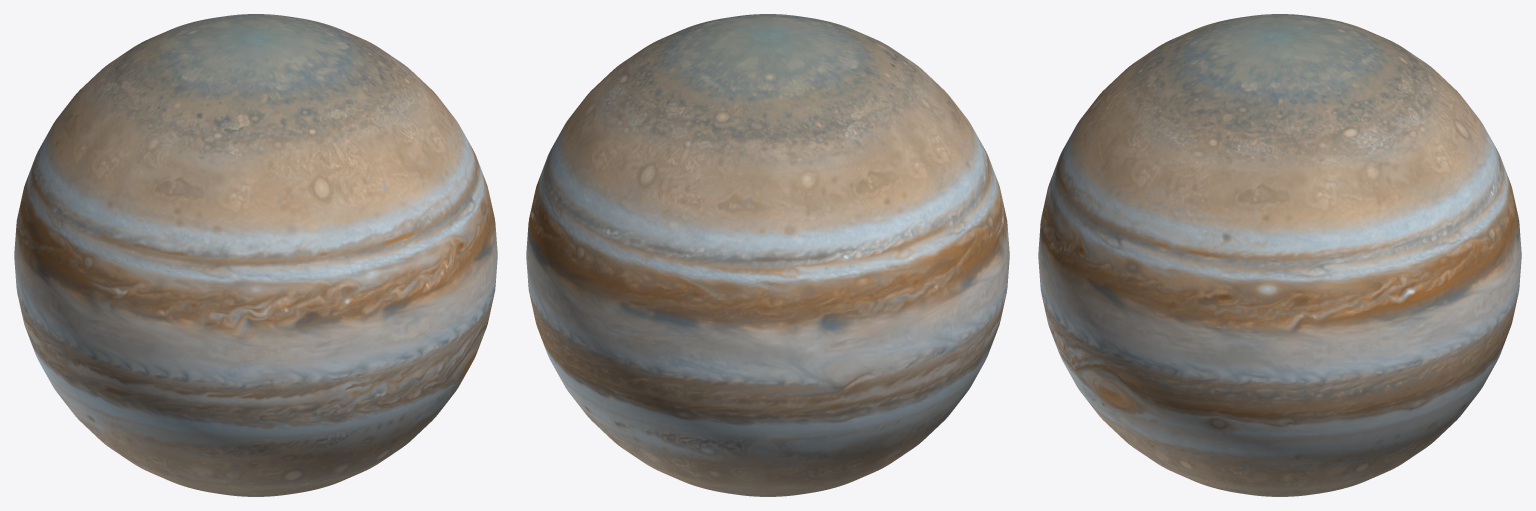
File: jupiter.gltf
3 renders of one model, left to right at view 1: azimuth 30°, elevation 25°; view 2: azimuth 150°, elevation 25°; view 3: azimuth 270°, elevation 25°, orthographic.
Parts seen in each view (by area): view 1: Sphere; view 2: Sphere; view 3: Sphere.
Part boxes in pixels (left/top/right/bottom): Sphere: left=14, top=14, right=497, bottom=496; Sphere: left=526, top=14, right=1009, bottom=496; Sphere: left=1038, top=14, right=1521, bottom=496.
Bounding box in the file's own units: 200 × 200 × 200.
Materials: 1 (1 with a texture image).
